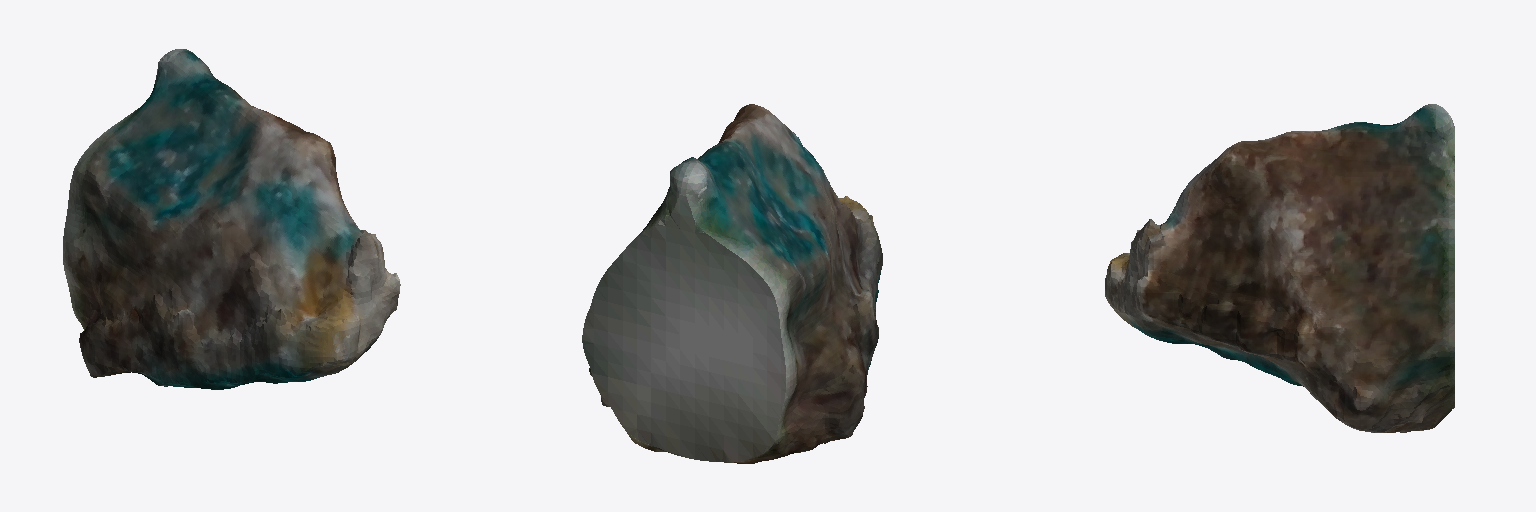
The picture shows the model from 3 angles: view 1: azimuth 30°, elevation 25°; view 2: azimuth 150°, elevation 25°; view 3: azimuth 270°, elevation 25°; orthographic projection.
Size of the model in its own units: 36.36 by 40.05 by 42.4.
Materials: 3 (3 with a texture image).